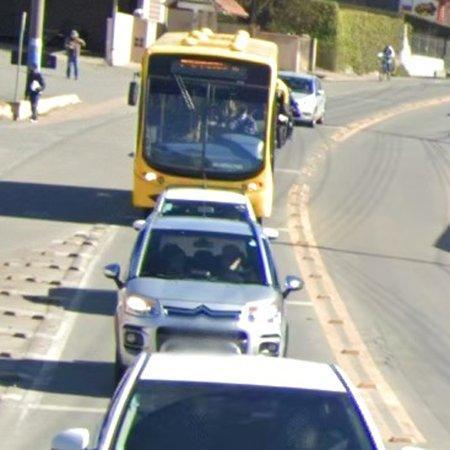buses: (133, 28, 289, 219)
